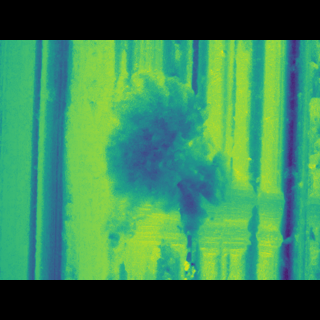Loch: (84, 88, 292, 238)
